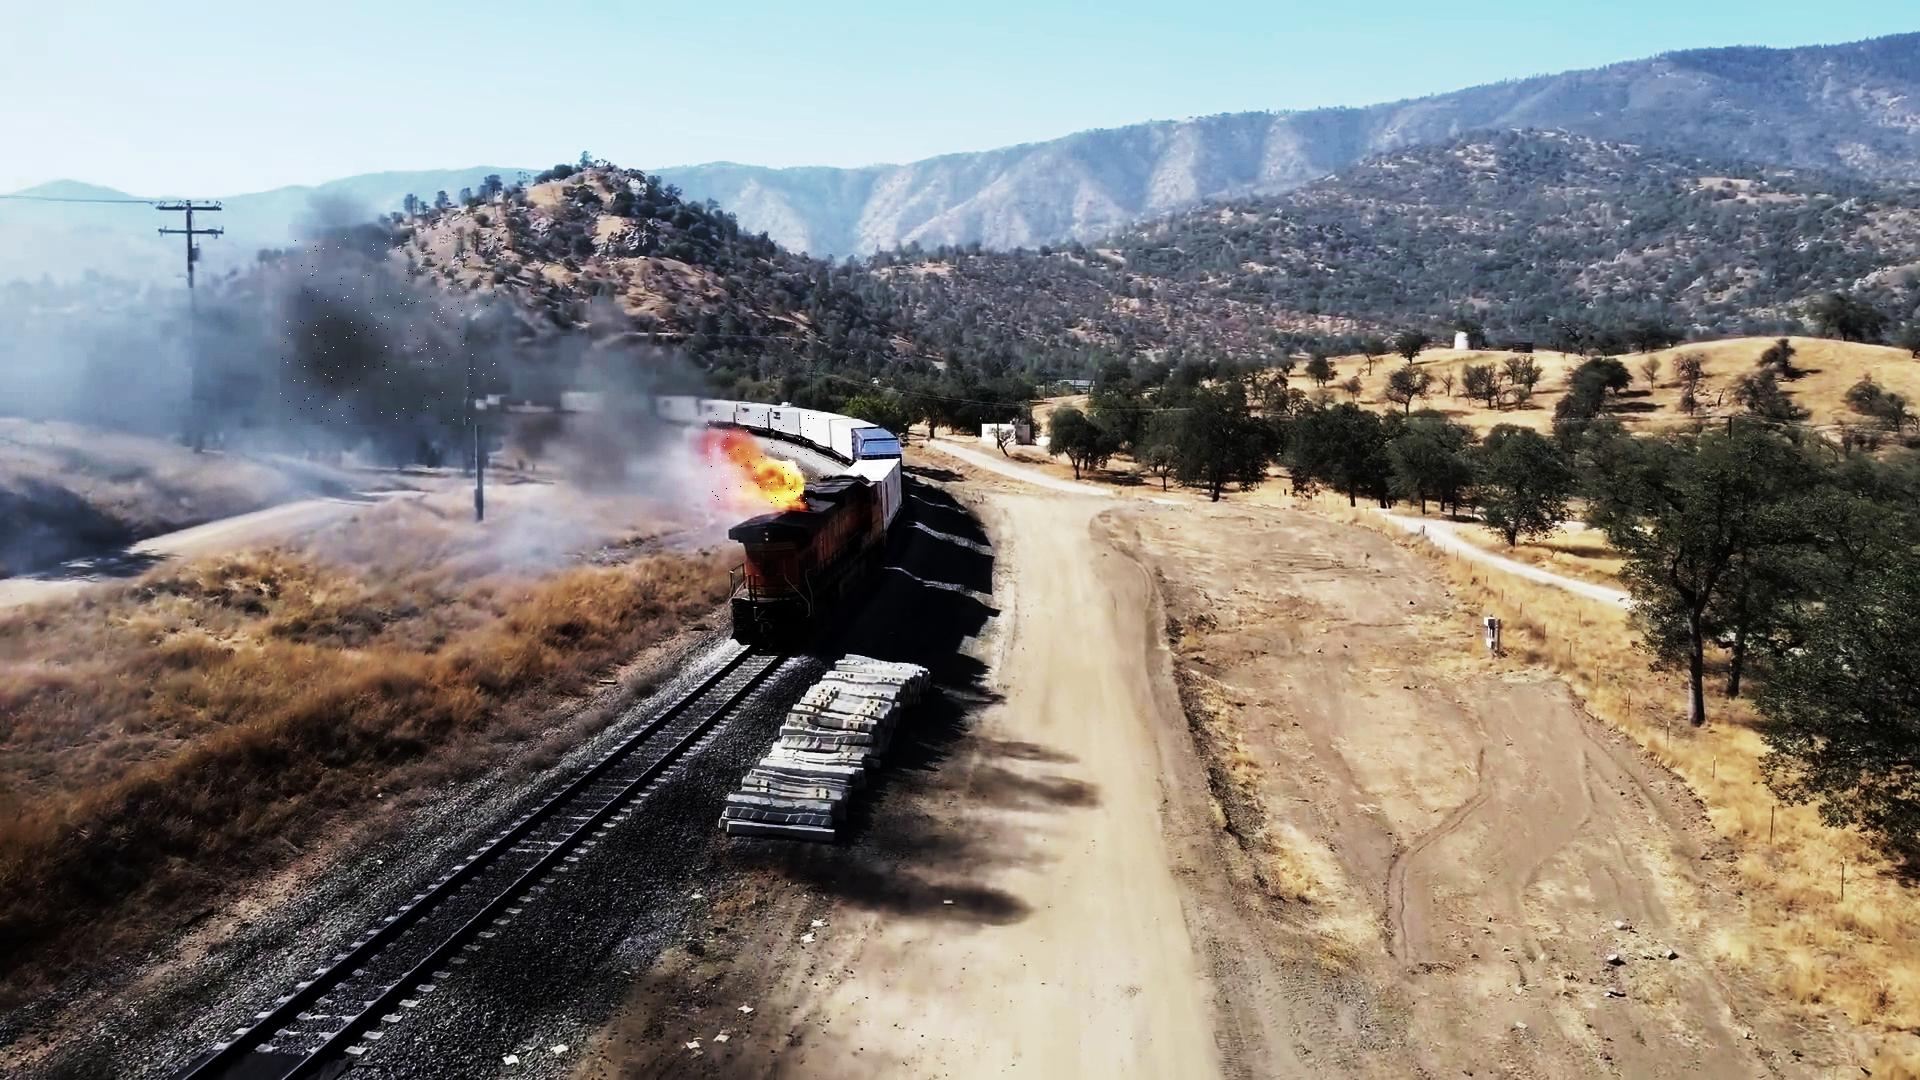fire: (708, 413, 816, 505)
smoke: (281, 235, 497, 425)
